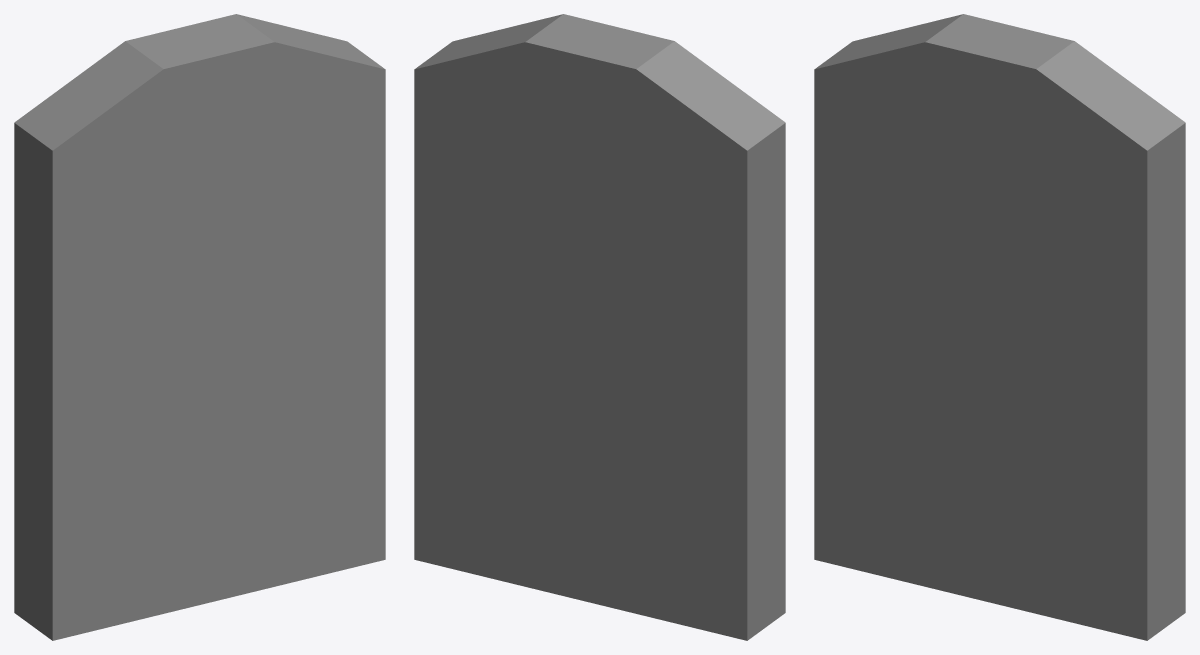
The model's file is headstone_01.fbx.
3 renders of one model, left to right at view 1: azimuth 30°, elevation 25°; view 2: azimuth 150°, elevation 25°; view 3: azimuth 330°, elevation 25°, orthographic.
Visible parts, largest first — view 1: headstone_01; view 2: headstone_01; view 3: headstone_01.
Part boxes in pixels (<box>): headstone_01: <box>14,14,385,640</box>; headstone_01: <box>414,14,785,640</box>; headstone_01: <box>814,14,1185,640</box>.
Bounding box in the file's own units: 0.96 × 1.5 × 0.192.
